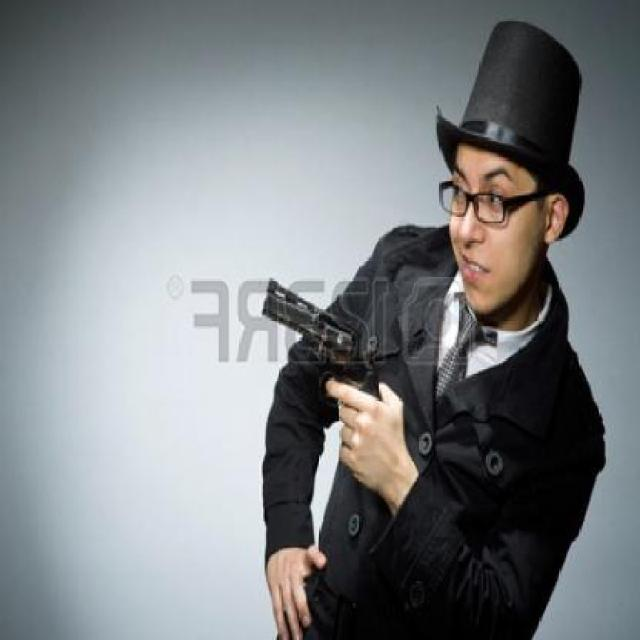pistol: (268, 280, 383, 411)
